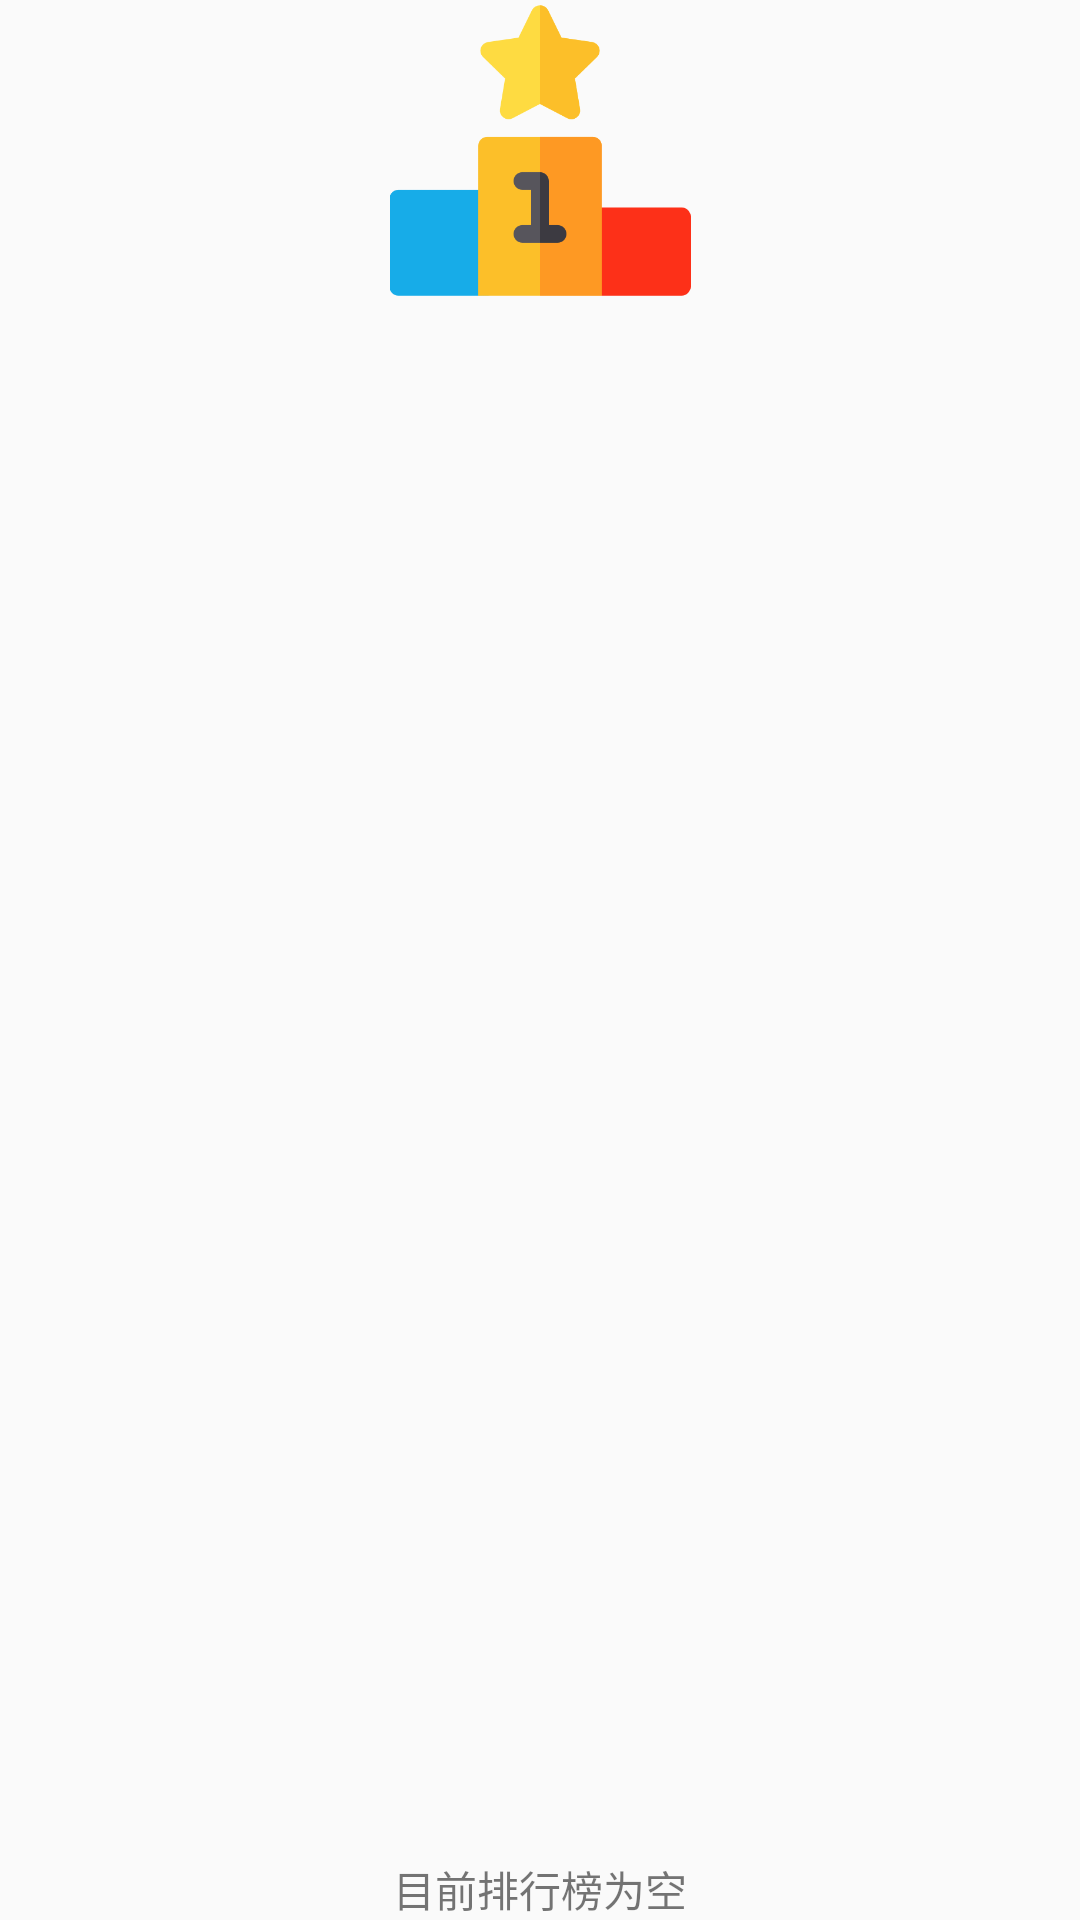

Icon bounding boxes for this 1080*1920 phone screenshot, format (x1, y1, x2, y2):
rank podium: (390, 5, 691, 296)
